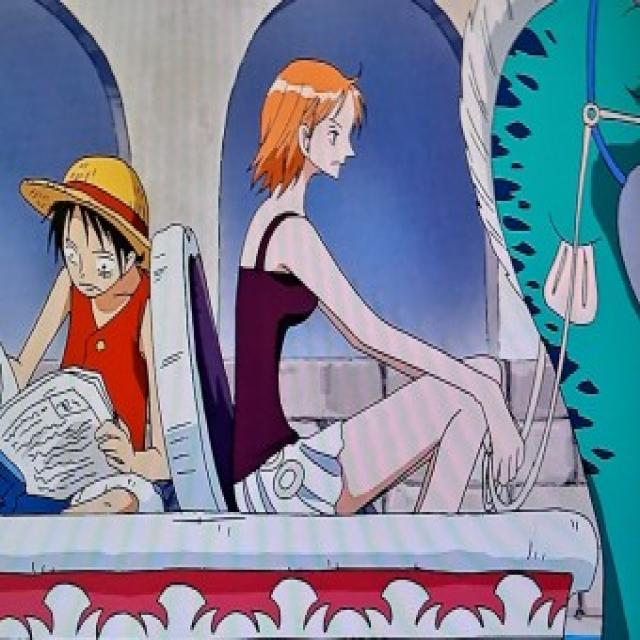Luffy: (10, 148, 160, 307)
Nami: (240, 48, 378, 215)
